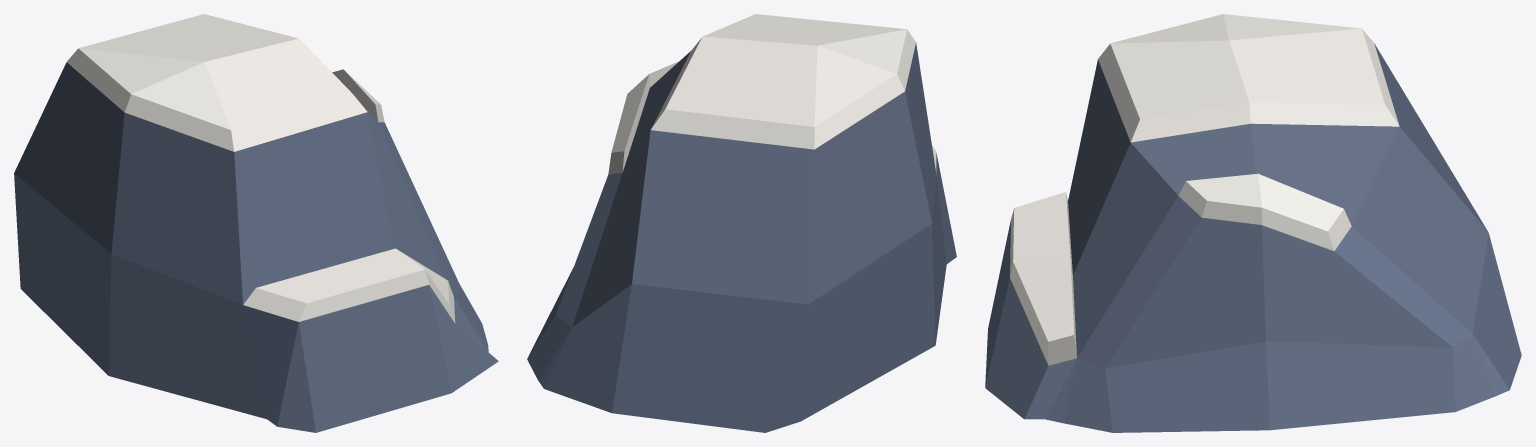
File: Rock_Snow_5.glb
The picture shows the model from 3 angles, left to right: view 1: azimuth 30°, elevation 25°; view 2: azimuth 150°, elevation 25°; view 3: azimuth 270°, elevation 25°; orthographic projection. The views are drawn at different scales.
Parts seen in each view (by area): view 1: Rock_Snow_5; view 2: Rock_Snow_5; view 3: Rock_Snow_5.
Part boxes in pixels (x1,y1,x2,y2): Rock_Snow_5: [14, 14, 498, 432]; Rock_Snow_5: [527, 14, 956, 432]; Rock_Snow_5: [985, 14, 1521, 432].
Size of the model in its own units: 0.6632 by 0.6055 by 0.9148.
